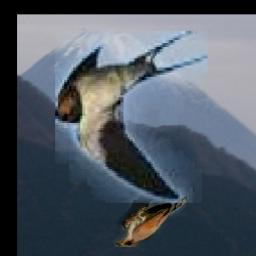Cuckoo: (114, 196, 187, 247)
Swallow: (55, 31, 208, 203)
